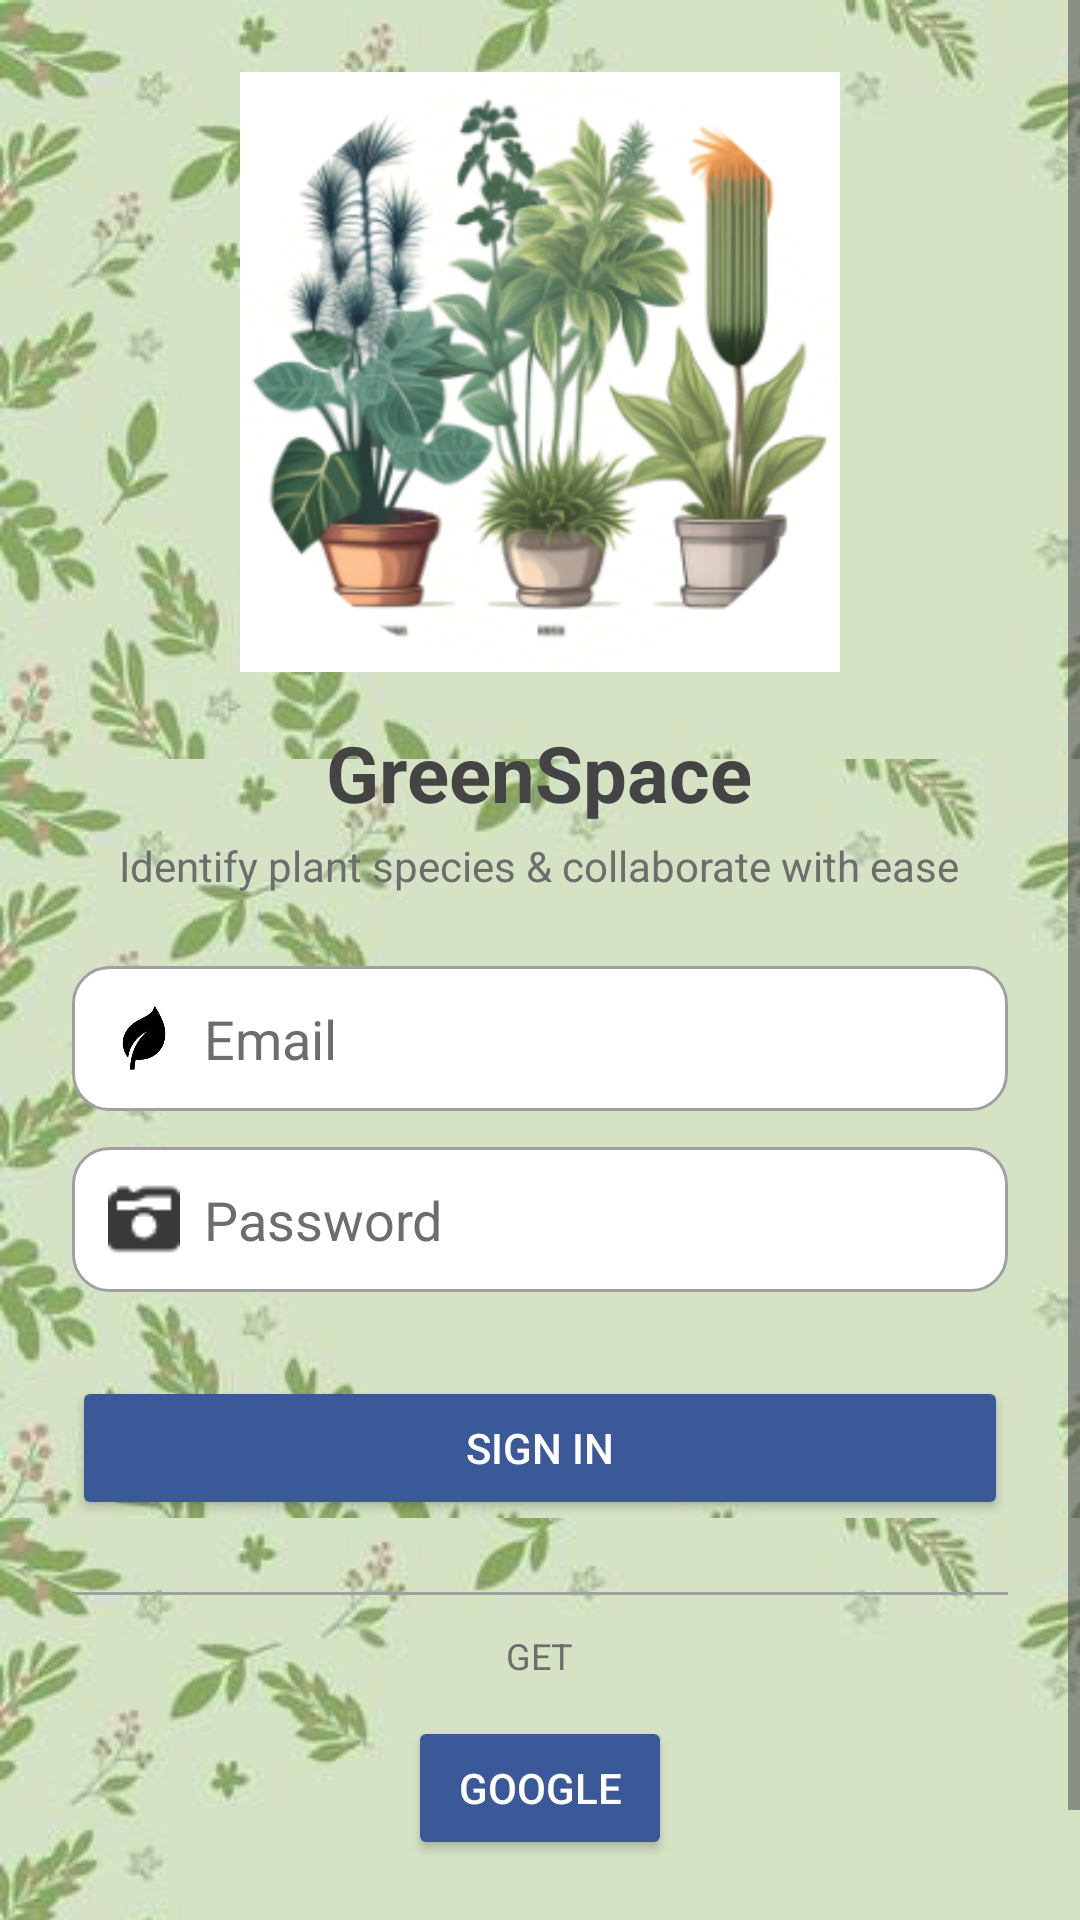

Where icons sit on this 1080×1920 app screen, as (x1, y1, x2, y2):
leaf: (122, 1006, 166, 1070)
